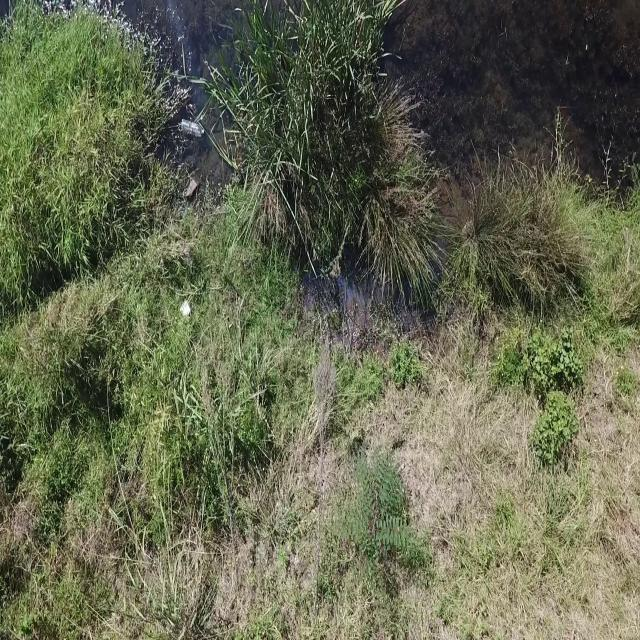Mysore-Thorn-Weed: (344, 446, 420, 579)
